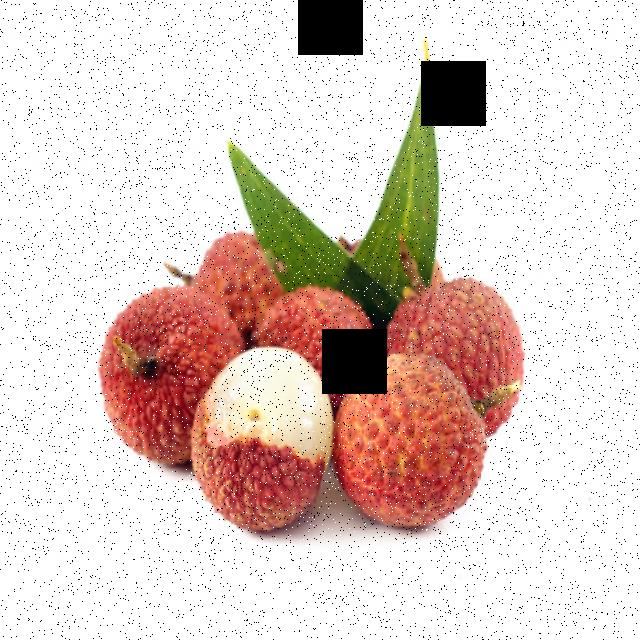lychee: (128, 224, 514, 540)
